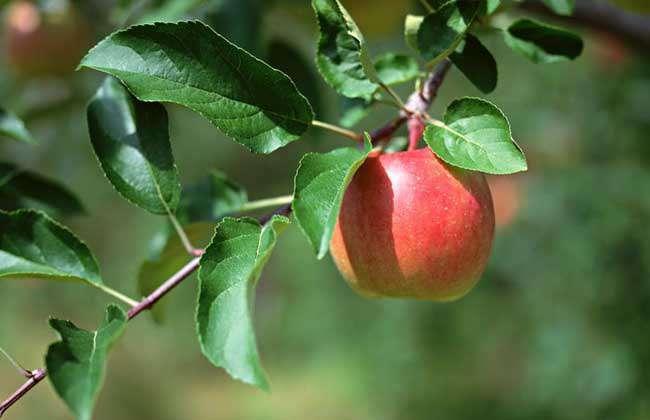apple: (328, 149, 494, 303)
